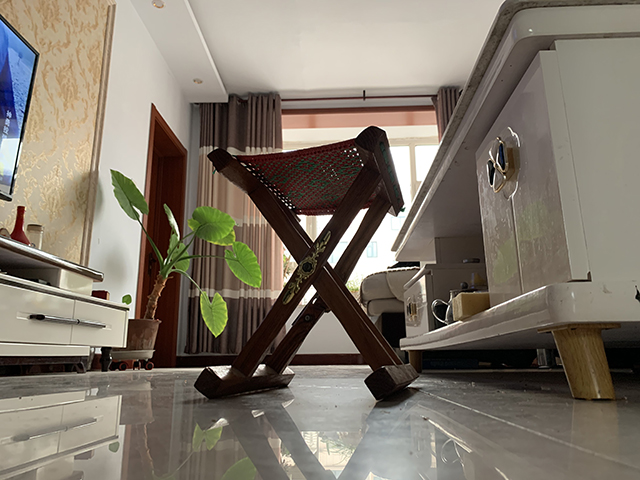cabinet: (1, 237, 131, 375)
curtain: (182, 91, 287, 356)
stool: (192, 124, 421, 402)
table: (390, 1, 640, 400)
